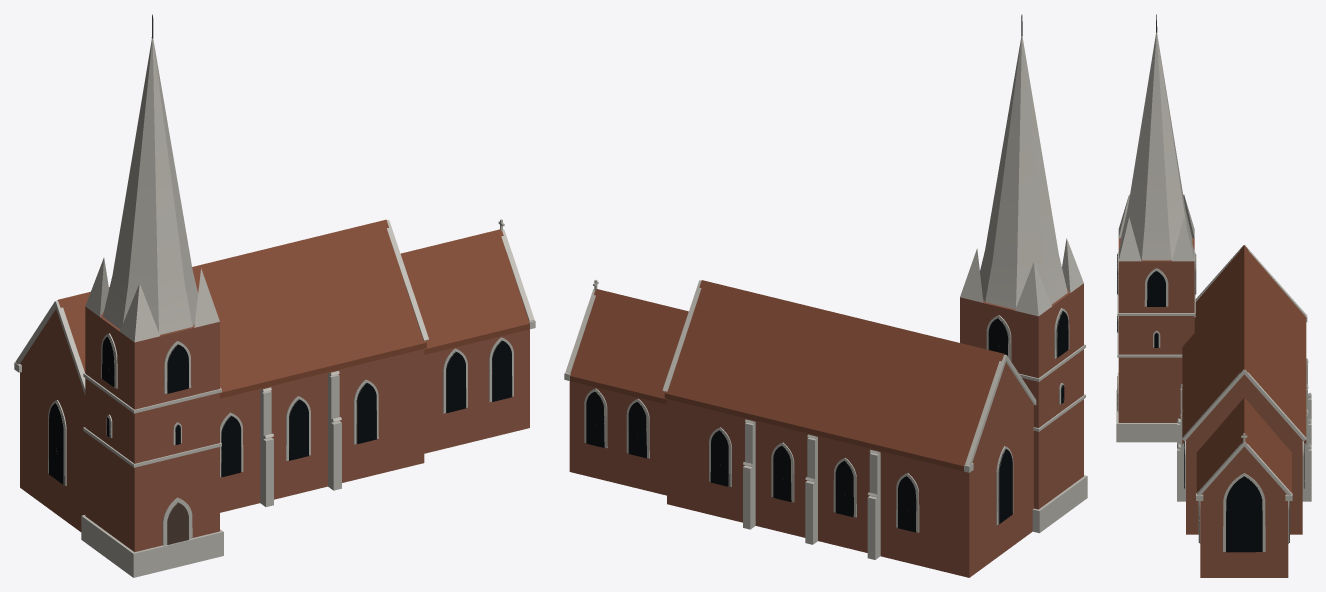
File: context.church.se_brick_broach.glb
The picture shows the model from 3 angles, left to right: view 1: azimuth 30°, elevation 25°; view 2: azimuth 150°, elevation 25°; view 3: azimuth 270°, elevation 25°; orthographic projection. The views are drawn at different scales.
Visible parts, largest first — view 1: main__stone_854, main__clad_843, main__stone_cbb, main__glass_dark, main__stone_998, main__timber_543; view 2: main__stone_854, main__clad_843, main__stone_cbb, main__glass_dark, main__stone_998; view 3: main__stone_854, main__clad_843, main__stone_cbb, main__glass_dark, main__stone_998.
Part boxes in pixels (x1,y1,x2,y2): main__stone_854: (20, 306, 529, 552); main__clad_843: (20, 219, 529, 398); main__stone_cbb: (14, 38, 535, 577); main__glass_dark: (49, 336, 512, 484); main__stone_998: (48, 336, 512, 544); main__timber_543: (167, 502, 188, 544); main__stone_854: (569, 283, 1083, 577); main__clad_843: (570, 280, 1033, 471); main__stone_cbb: (564, 36, 1087, 559); main__glass_dark: (586, 311, 1068, 532); main__stone_998: (586, 311, 1068, 532); main__stone_854: (1118, 238, 1302, 577); main__clad_843: (1182, 245, 1306, 494); main__stone_cbb: (1116, 32, 1311, 551); main__glass_dark: (1117, 254, 1304, 552); main__stone_998: (1117, 254, 1304, 542).
Size of the model in its own units: 27.62 by 31.05 by 13.35.
